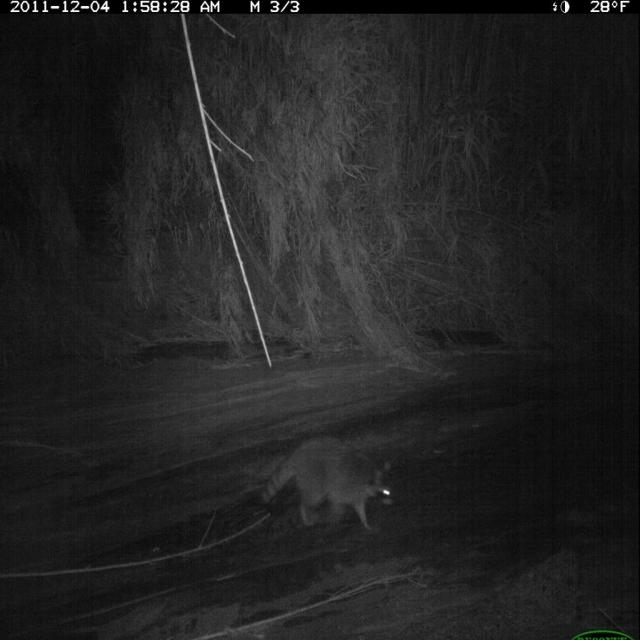raccoon: (256, 433, 400, 542)
